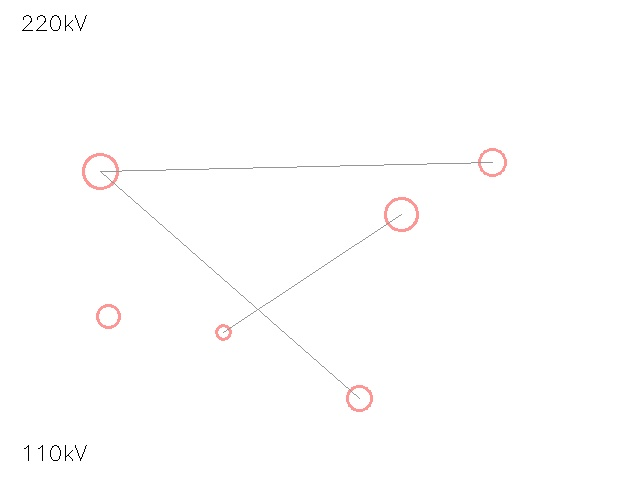disconnect_switch: (369, 182, 433, 246), (208, 317, 238, 347)
reactor: (66, 137, 134, 205), (465, 135, 519, 189)
surge_arrester: (86, 294, 130, 338)
voltage_transformer: (334, 373, 384, 423)
